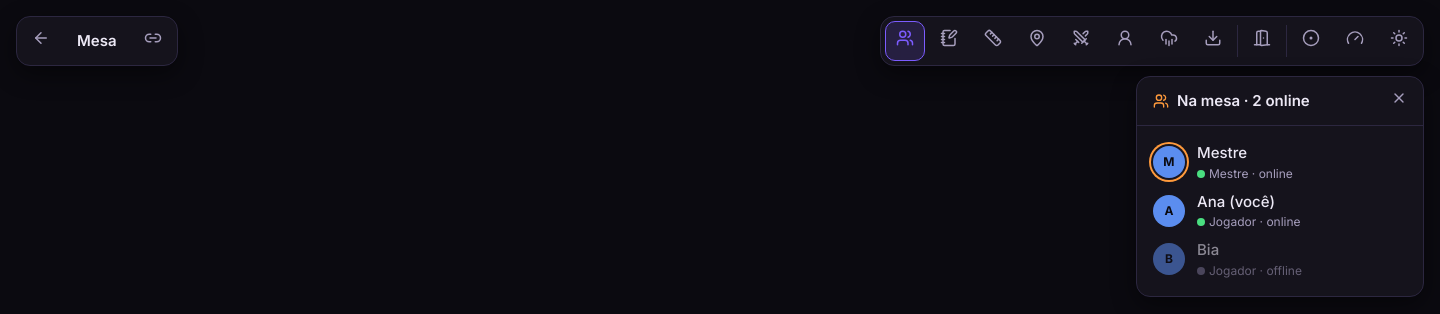
anotações na barra da sala › shouldSwapBackToThePresencePanel
Click the button named "Anotações": coordinates (949, 41) 929,21 -> 969,61
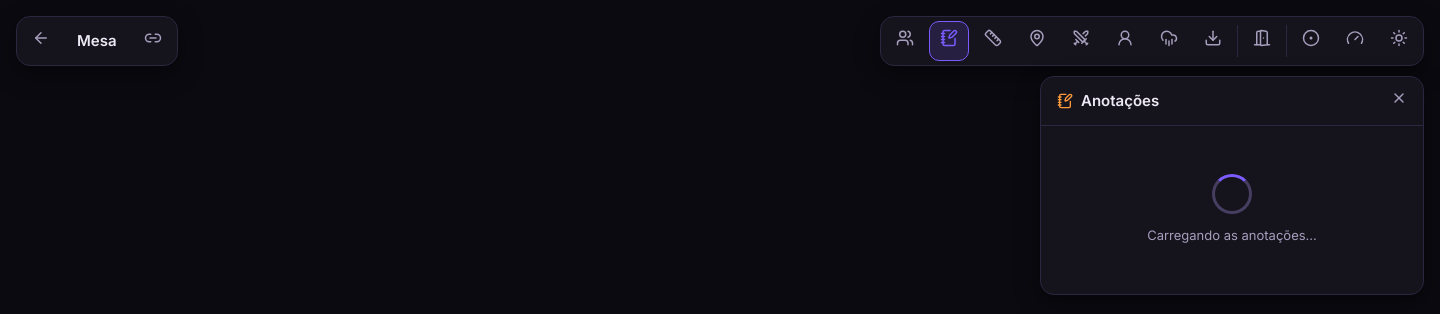
Click the button named "Mostrar quem está na mesa": coordinates (905, 41) 885,21 -> 925,61
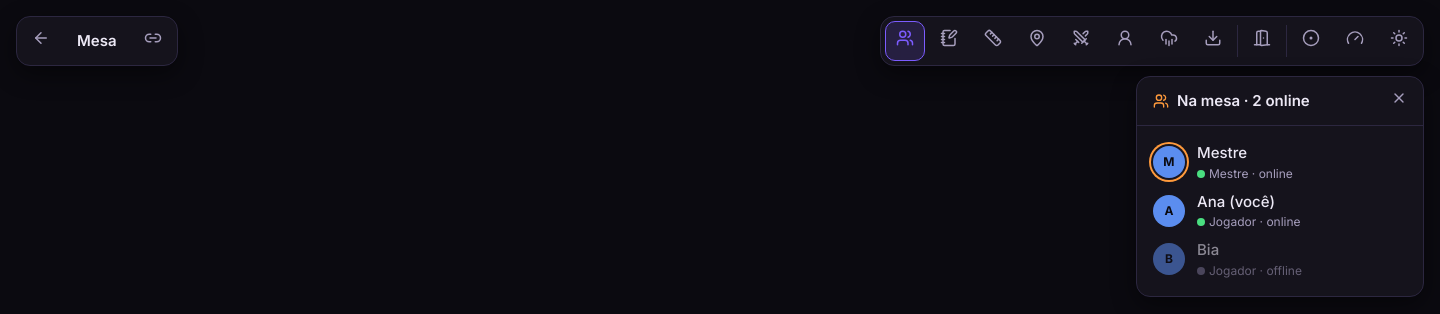
Expected: the element "Na mesa" is shown, 1136,76 -> 1424,296
Expected: the heading "Anotações" is gone
